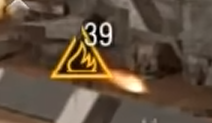1fire: (46, 49, 114, 80)
